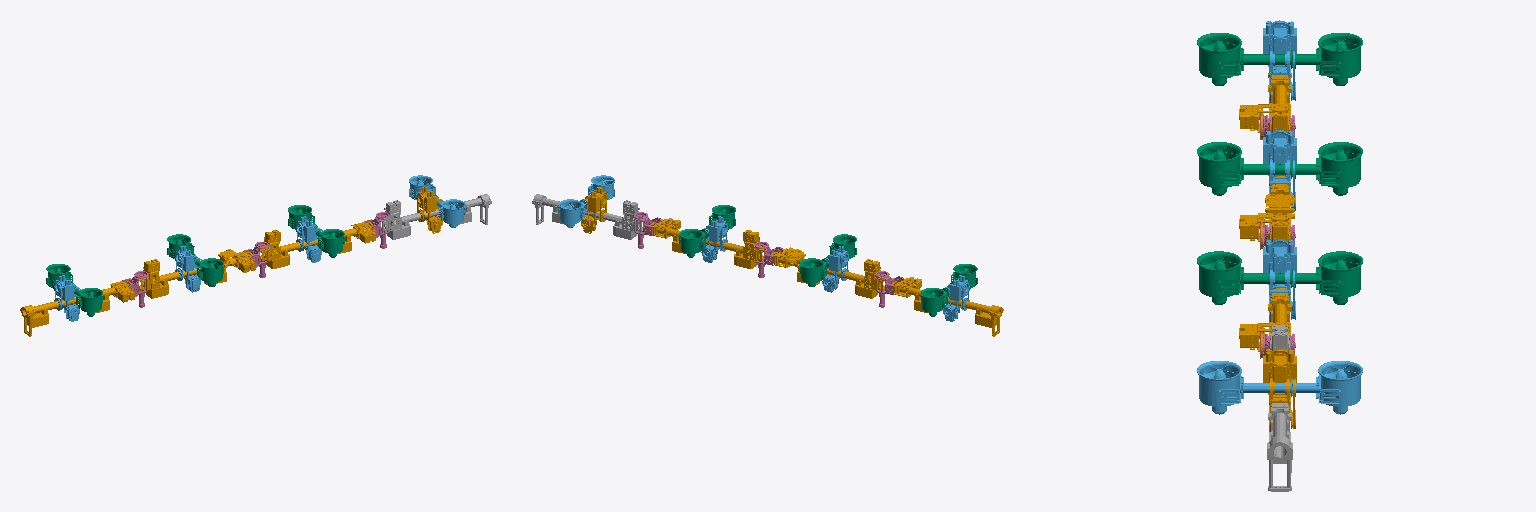
robot.urdf — dragon:
<?xml version="1.0" ?>
<robot name="dragon">
  <baselink name="fc"/>
  <thrust_link name="thrust"/>
  <m_f_rate value="0"/>
  <link name="link1">
    <inertial>
      <origin rpy="0 0 0" xyz="0.22709 -0.00667 -0.02721"/>
      <mass value="0.7968"/>
      <inertia ixx="0.00095" ixy="-0.00098" ixz="0.0003" iyy="0.0151" iyz="0.0001" izz="0.0148"/>
    </inertial>
    <visual>
      <origin rpy="0 0 0" xyz="0.212 0 0"/>
      <geometry>
        <mesh filename="ducted_fan_head_link.stl"/>
      </geometry>
    </visual>
    <collision name="link1">
      <origin rpy="0 0 0" xyz="0.212 0 0"/>
      <geometry>
        <mesh filename="ducted_fan_head_link.stl"/>
      </geometry>
    </collision>
  </link>
  <gazebo reference="link1">
    <dampingFactor>0.00</dampingFactor>
  </gazebo>
  <joint name="gimbal1_roll" type="revolute">
    <limit effort="3" lower="-3.14" upper="3.14" velocity="12.5"/>
    <parent link="link1"/>
    <child link="gimbal1_roll_module"/>
    <origin rpy="0 0 0" xyz="0.212 0 0"/>
    <axis xyz="1 0 0"/>
    <dynamics damping="0.1" friction="0.0"/>
  </joint>
  <link name="gimbal1_roll_module">
    <inertial>
      <origin rpy="0 0 0" xyz="-0.0276 0.00042 0.01548"/>
      <mass value="0.4604"/>
      <inertia ixx="0.0004" ixy="0" ixz="-0.0003" iyy="0.0004" iyz="0" izz="0.0003"/>
    </inertial>
    <visual>
      <origin rpy="0 0 0" xyz="-0.01 0 0"/>
      <geometry>
        <mesh filename="ducted_fan_gimbal_roll.stl"/>
      </geometry>
    </visual>
    <collision name="gimbal1_roll_module">
      <origin rpy="0 0 0" xyz="-0.01 0 0"/>
      <geometry>
        <mesh filename="ducted_fan_gimbal_roll.stl"/>
      </geometry>
    </collision>
  </link>
  <joint name="gimbal1_pitch" type="revolute">
    <limit effort="3" lower="-3.14" upper="3.14" velocity="12.5"/>
    <parent link="gimbal1_roll_module"/>
    <child link="gimbal1_pitch_module"/>
    <origin rpy="0 0 0" xyz="0 0 0.037"/>
    <axis xyz="0 1 0"/>
    <dynamics damping="0.1" friction="0.0"/>
  </joint>
  <link name="gimbal1_pitch_module">
    <inertial>
      <origin rpy="0 0 0" xyz="0 0.00033  -0.00871"/>
      <mass value="0.5301"/>
      <inertia ixx="0.0061" ixy="0.0" ixz="0.0" iyy="0.0001" iyz="0.0" izz="0.0061"/>
    </inertial>
    <visual>
      <origin rpy="0 0 0" xyz="0 0 0"/>
      <geometry>
        <mesh filename="ducted_fan_gimbal_pitch.stl"/>
      </geometry>
    </visual>
    <collision name="gimbal1_pitch_module">
      <origin rpy="0 0 0" xyz="0 0 0"/>
      <geometry>
        <mesh filename="ducted_fan_gimbal_pitch.stl"/>
      </geometry>
    </collision>
  </link>
  <joint name="rotor1" type="continuous">
    <limit effort="100.0" lower="2" upper="30" velocity="0.5"/>
    <parent link="gimbal1_pitch_module"/>
    <child link="thrust1"/>
    <origin rpy="0 0 0" xyz="0 0 0"/>
    <axis xyz="0 0 1"/>
  </joint>
  <link name="thrust1">
    <inertial>
      <origin rpy="0 0 0" xyz="0 0 0"/>
      <mass value="0.0001"/>
      <inertia ixx="0.00001" ixy="0.0" ixz="0.0" iyy="0.00001" iyz="0.0" izz="0.00002"/>
    </inertial>
  </link>
  <joint name="edf1_left_mount" type="fixed">
    <child link="edf1_left"/>
    <parent link="gimbal1_pitch_module"/>
    <origin rpy="0 0 0" xyz="0 0.1115 0 "/>
    <axis xyz="0 0 1"/>
  </joint>
  <link name="edf1_left">
    <inertial>
      <origin rpy="0 0 0" xyz="0 0 0"/>
      <mass value="0.00001"/>
      <inertia ixx="0.000001" ixy="0.0" ixz="0.0" iyy="0.000001" iyz="0.0" izz="0.000002"/>
    </inertial>
  </link>
  <joint name="edf1_right_mount" type="fixed">
    <child link="edf1_right"/>
    <parent link="gimbal1_pitch_module"/>
    <origin rpy="0 0 0" xyz="0 -0.1115 0 "/>
    <axis xyz="0 0 1"/>
  </joint>
  <link name="edf1_right">
    <inertial>
      <origin rpy="0 0 0" xyz="0 0 0"/>
      <mass value="0.00001"/>
      <inertia ixx="0.000001" ixy="0.0" ixz="0.0" iyy="0.000001" iyz="0.0" izz="0.000002"/>
    </inertial>
  </link>
  <gazebo reference="thrust1">
    <dampingFactor>0.00</dampingFactor>
  </gazebo>
  <joint name="joint1_pitch" type="revolute">
    <limit effort="10.0" lower="-1.5707963267948966" upper="1.5707963267948966" velocity="0.1"/>
    <parent link="link1"/>
    <child link="inter_joint1"/>
    <origin rpy="0 0 0" xyz="0.424 0 0"/>
    <axis xyz="0 1 0"/>
    <dynamics damping="0.9" friction="0.05"/>
  </joint>
  <link name="inter_joint1">
    <inertial>
      <origin rpy="0 0 0" xyz="0.029179999999999998 -0.0042699999999999995 -0.0015500000000000002"/>
      <mass value="0.1329"/>
      <inertia ixx="0.0001" ixy="0" ixz="0.0" iyy="0.0001" iyz="0.0" izz="0.0001"/>
    </inertial>
    <visual>
      <origin rpy="0 0 0" xyz="0.02575 0 0"/>
      <geometry>
        <mesh filename="inter_joint_junction.stl"/>
      </geometry>
    </visual>
    <collision name="inter_joint1">
      <origin rpy="0 0 0" xyz="0.02575 0 0"/>
      <geometry>
        <mesh filename="inter_joint_junction.stl"/>
      </geometry>
    </collision>
  </link>
  <joint name="joint1_yaw" type="revolute">
    <limit effort="10.0" lower="-1.5707963267948966" upper="1.5707963267948966" velocity="0.1"/>
    <parent link="inter_joint1"/>
    <child link="link2"/>
    <origin rpy="0 0 0" xyz="0.0515 0 0"/>
    <axis xyz="0 0 1"/>
    <dynamics damping="0.9" friction="0.05"/>
  </joint>
  <gazebo reference="inter_joint1">
    <mu1>0.2</mu1>
    <mu2>0.2</mu2>
  </gazebo>
  <link name="root">
    <inertial>
      <origin rpy="0 0 0" xyz="0 0 0"/>
      <mass value="0.00001"/>
      <inertia ixx="0.000001" ixy="0.0" ixz="0.0" iyy="0.000001" iyz="0.0" izz="0.000002"/>
    </inertial>
  </link>
  <joint name="root_joint" type="fixed">
    <parent link="root"/>
    <child link="link1"/>
    <origin rpy="0 0 0" xyz="0 0 0"/>
    <axis xyz="0 0 1"/>
  </joint>
  <gazebo reference="link1">
    <mu1>0.4</mu1>
    <mu2>0.4</mu2>
  </gazebo>
  <link name="link2">
    <inertial>
      <origin rpy="0 0 0" xyz="0.22154 -0.00474 -0.01568"/>
      <mass value="1.1348"/>
      <inertia ixx="0.0018" ixy="-0.0009" ixz="-0.0006" iyy="0.0228" iyz="0.0001" izz="0.0219"/>
    </inertial>
    <visual>
      <origin rpy="0 0 0" xyz="0.212 0 0"/>
      <geometry>
        <mesh filename="ducted_fan_baselink.stl"/>
      </geometry>
    </visual>
    <collision name="link2">
      <origin rpy="0 0 0" xyz="0.212 0 0"/>
      <geometry>
        <mesh filename="ducted_fan_baselink.stl"/>
      </geometry>
    </collision>
  </link>
  <gazebo reference="link2">
    <dampingFactor>0.00</dampingFactor>
  </gazebo>
  <joint name="gimbal2_roll" type="revolute">
    <limit effort="3" lower="-3.14" upper="3.14" velocity="12.5"/>
    <parent link="link2"/>
    <child link="gimbal2_roll_module"/>
    <origin rpy="0 0 0" xyz="0.212 0 0"/>
    <axis xyz="1 0 0"/>
    <dynamics damping="0.1" friction="0.0"/>
  </joint>
  <link name="gimbal2_roll_module">
    <inertial>
      <origin rpy="0 0 0" xyz="-0.0276 0.00042 0.01548"/>
      <mass value="0.4604"/>
      <inertia ixx="0.0004" ixy="0" ixz="-0.0003" iyy="0.0004" iyz="0" izz="0.0003"/>
    </inertial>
    <visual>
      <origin rpy="0 0 0" xyz="-0.01 0 0"/>
      <geometry>
        <mesh filename="ducted_fan_gimbal_roll.stl"/>
      </geometry>
    </visual>
    <collision name="gimbal2_roll_module">
      <origin rpy="0 0 0" xyz="-0.01 0 0"/>
      <geometry>
        <mesh filename="ducted_fan_gimbal_roll.stl"/>
      </geometry>
    </collision>
  </link>
  <joint name="gimbal2_pitch" type="revolute">
    <limit effort="3" lower="-3.14" upper="3.14" velocity="12.5"/>
    <parent link="gimbal2_roll_module"/>
    <child link="gimbal2_pitch_module"/>
    <origin rpy="0 0 0" xyz="0 0 0.037"/>
    <axis xyz="0 1 0"/>
    <dynamics damping="0.1" friction="0.0"/>
  </joint>
  <link name="gimbal2_pitch_module">
    <inertial>
      <origin rpy="0 0 0" xyz="0 0.00033  -0.00871"/>
      <mass value="0.5301"/>
      <inertia ixx="0.0061" ixy="0.0" ixz="0.0" iyy="0.0001" iyz="0.0" izz="0.0061"/>
    </inertial>
    <visual>
      <origin rpy="0 0 0" xyz="0 0 0"/>
      <geometry>
        <mesh filename="ducted_fan_gimbal_pitch.stl"/>
      </geometry>
    </visual>
    <collision name="gimbal2_pitch_module">
      <origin rpy="0 0 0" xyz="0 0 0"/>
      <geometry>
        <mesh filename="ducted_fan_gimbal_pitch.stl"/>
      </geometry>
    </collision>
  </link>
  <joint name="rotor2" type="continuous">
    <limit effort="100.0" lower="2" upper="30" velocity="0.5"/>
    <parent link="gimbal2_pitch_module"/>
    <child link="thrust2"/>
    <origin rpy="0 0 0" xyz="0 0 0"/>
    <axis xyz="0 0 1"/>
  </joint>
  <link name="thrust2">
    <inertial>
      <origin rpy="0 0 0" xyz="0 0 0"/>
      <mass value="0.0001"/>
      <inertia ixx="0.00001" ixy="0.0" ixz="0.0" iyy="0.00001" iyz="0.0" izz="0.00002"/>
    </inertial>
  </link>
  <joint name="edf2_left_mount" type="fixed">
    <child link="edf2_left"/>
    <parent link="gimbal2_pitch_module"/>
    <origin rpy="0 0 0" xyz="0 0.1115 0 "/>
    <axis xyz="0 0 1"/>
  </joint>
  <link name="edf2_left">
    <inertial>
      <origin rpy="0 0 0" xyz="0 0 0"/>
      <mass value="0.00001"/>
      <inertia ixx="0.000001" ixy="0.0" ixz="0.0" iyy="0.000001" iyz="0.0" izz="0.000002"/>
    </inertial>
  </link>
  <joint name="edf2_right_mount" type="fixed">
    <child link="edf2_right"/>
    <parent link="gimbal2_pitch_module"/>
    <origin rpy="0 0 0" xyz="0 -0.1115 0 "/>
    <axis xyz="0 0 1"/>
  </joint>
  <link name="edf2_right">
    <inertial>
      <origin rpy="0 0 0" xyz="0 0 0"/>
      <mass value="0.00001"/>
      <inertia ixx="0.000001" ixy="0.0" ixz="0.0" iyy="0.000001" iyz="0.0" izz="0.000002"/>
    </inertial>
  </link>
  <gazebo reference="thrust2">
    <dampingFactor>0.00</dampingFactor>
  </gazebo>
  <joint name="joint2_pitch" type="revolute">
    <limit effort="10.0" lower="-1.5707963267948966" upper="1.5707963267948966" velocity="0.1"/>
    <parent link="link2"/>
    <child link="inter_joint2"/>
    <origin rpy="0 0 0" xyz="0.424 0 0"/>
    <axis xyz="0 1 0"/>
    <dynamics damping="0.9" friction="0.05"/>
  </joint>
  <link name="inter_joint2">
    <inertial>
      <origin rpy="0 0 0" xyz="0.029179999999999998 -0.0042699999999999995 -0.0015500000000000002"/>
      <mass value="0.1329"/>
      <inertia ixx="0.0001" ixy="0" ixz="0.0" iyy="0.0001" iyz="0.0" izz="0.0001"/>
    </inertial>
    <visual>
      <origin rpy="0 0 0" xyz="0.02575 0 0"/>
      <geometry>
        <mesh filename="inter_joint_junction.stl"/>
      </geometry>
    </visual>
    <collision name="inter_joint2">
      <origin rpy="0 0 0" xyz="0.02575 0 0"/>
      <geometry>
        <mesh filename="inter_joint_junction.stl"/>
      </geometry>
    </collision>
  </link>
  <joint name="joint2_yaw" type="revolute">
    <limit effort="10.0" lower="-1.5707963267948966" upper="1.5707963267948966" velocity="0.1"/>
    <parent link="inter_joint2"/>
    <child link="link3"/>
    <origin rpy="0 0 0" xyz="0.0515 0 0"/>
    <axis xyz="0 0 1"/>
    <dynamics damping="0.9" friction="0.05"/>
  </joint>
  <gazebo reference="inter_joint2">
    <mu1>0.2</mu1>
    <mu2>0.2</mu2>
  </gazebo>
  <link name="fc">
    <inertial>
      <origin rpy="0 0 0" xyz="0 0 0"/>
      <mass value="0.00001"/>
      <inertia ixx="0.000001" ixy="0.0" ixz="0.0" iyy="0.000001" iyz="0.0" izz="0.000002"/>
    </inertial>
  </link>
  <joint name="fc_joint" type="fixed">
    <child link="fc"/>
    <parent link="link2"/>
    <origin rpy="0 0 0" xyz="0.316 -0.004 0.043"/>
    <axis xyz="0 0 1"/>
  </joint>
  <gazebo reference="link2">
    <mu1>0.4</mu1>
    <mu2>0.4</mu2>
  </gazebo>
  <link name="link3">
    <inertial>
      <origin rpy="0 0 0" xyz="0.19922 -0.0058 -0.01695"/>
      <mass value="0.9289"/>
      <inertia ixx="0.0015" ixy="-0.0008" ixz="-0.0001" iyy="0.0198" iyz="0.0001" izz="0.0189"/>
    </inertial>
    <visual>
      <origin rpy="0 0 0" xyz="0.212 0 0"/>
      <geometry>
        <mesh filename="ducted_fan_general_link.stl"/>
      </geometry>
    </visual>
    <collision name="link3">
      <origin rpy="0 0 0" xyz="0.212 0 0"/>
      <geometry>
        <mesh filename="ducted_fan_general_link.stl"/>
      </geometry>
    </collision>
  </link>
  <gazebo reference="link3">
    <dampingFactor>0.00</dampingFactor>
  </gazebo>
  <joint name="gimbal3_roll" type="revolute">
    <limit effort="3" lower="-3.14" upper="3.14" velocity="12.5"/>
    <parent link="link3"/>
    <child link="gimbal3_roll_module"/>
    <origin rpy="0 0 0" xyz="0.212 0 0"/>
    <axis xyz="1 0 0"/>
    <dynamics damping="0.1" friction="0.0"/>
  </joint>
  <link name="gimbal3_roll_module">
    <inertial>
      <origin rpy="0 0 0" xyz="-0.0276 0.00042 0.01548"/>
      <mass value="0.4604"/>
      <inertia ixx="0.0004" ixy="0" ixz="-0.0003" iyy="0.0004" iyz="0" izz="0.0003"/>
    </inertial>
    <visual>
      <origin rpy="0 0 0" xyz="-0.01 0 0"/>
      <geometry>
        <mesh filename="ducted_fan_gimbal_roll.stl"/>
      </geometry>
    </visual>
    <collision name="gimbal3_roll_module">
      <origin rpy="0 0 0" xyz="-0.01 0 0"/>
      <geometry>
        <mesh filename="ducted_fan_gimbal_roll.stl"/>
      </geometry>
    </collision>
  </link>
  <joint name="gimbal3_pitch" type="revolute">
    <limit effort="3" lower="-3.14" upper="3.14" velocity="12.5"/>
    <parent link="gimbal3_roll_module"/>
    <child link="gimbal3_pitch_module"/>
    <origin rpy="0 0 0" xyz="0 0 0.037"/>
    <axis xyz="0 1 0"/>
    <dynamics damping="0.1" friction="0.0"/>
  </joint>
  <link name="gimbal3_pitch_module">
    <inertial>
      <origin rpy="0 0 0" xyz="0 0.00033  -0.00871"/>
      <mass value="0.5301"/>
      <inertia ixx="0.0061" ixy="0.0" ixz="0.0" iyy="0.0001" iyz="0.0" izz="0.0061"/>
    </inertial>
    <visual>
      <origin rpy="0 0 0" xyz="0 0 0"/>
      <geometry>
        <mesh filename="ducted_fan_gimbal_pitch.stl"/>
      </geometry>
    </visual>
    <collision name="gimbal3_pitch_module">
      <origin rpy="0 0 0" xyz="0 0 0"/>
      <geometry>
        <mesh filename="ducted_fan_gimbal_pitch.stl"/>
      </geometry>
    </collision>
  </link>
  <joint name="rotor3" type="continuous">
    <limit effort="100.0" lower="2" upper="30" velocity="0.5"/>
    <parent link="gimbal3_pitch_module"/>
    <child link="thrust3"/>
    <origin rpy="0 0 0" xyz="0 0 0"/>
    <axis xyz="0 0 1"/>
  </joint>
  <link name="thrust3">
    <inertial>
      <origin rpy="0 0 0" xyz="0 0 0"/>
      <mass value="0.0001"/>
      <inertia ixx="0.00001" ixy="0.0" ixz="0.0" iyy="0.00001" iyz="0.0" izz="0.00002"/>
    </inertial>
  </link>
  <joint name="edf3_left_mount" type="fixed">
    <child link="edf3_left"/>
    <parent link="gimbal3_pitch_module"/>
    <origin rpy="0 0 0" xyz="0 0.1115 0 "/>
    <axis xyz="0 0 1"/>
  </joint>
  <link name="edf3_left">
    <inertial>
      <origin rpy="0 0 0" xyz="0 0 0"/>
      <mass value="0.00001"/>
      <inertia ixx="0.000001" ixy="0.0" ixz="0.0" iyy="0.000001" iyz="0.0" izz="0.000002"/>
    </inertial>
  </link>
  <joint name="edf3_right_mount" type="fixed">
    <child link="edf3_right"/>
    <parent link="gimbal3_pitch_module"/>
    <origin rpy="0 0 0" xyz="0 -0.1115 0 "/>
    <axis xyz="0 0 1"/>
  </joint>
  <link name="edf3_right">
    <inertial>
      <origin rpy="0 0 0" xyz="0 0 0"/>
      <mass value="0.00001"/>
      <inertia ixx="0.000001" ixy="0.0" ixz="0.0" iyy="0.000001" iyz="0.0" izz="0.000002"/>
    </inertial>
  </link>
  <gazebo reference="thrust3">
    <dampingFactor>0.00</dampingFactor>
  </gazebo>
  <joint name="joint3_pitch" type="revolute">
    <limit effort="10.0" lower="-1.5707963267948966" upper="1.5707963267948966" velocity="0.1"/>
    <parent link="link3"/>
    <child link="inter_joint3"/>
    <origin rpy="0 0 0" xyz="0.424 0 0"/>
    <axis xyz="0 1 0"/>
    <dynamics damping="0.9" friction="0.05"/>
  </joint>
  <link name="inter_joint3">
    <inertial>
      <origin rpy="0 0 0" xyz="0.029179999999999998 -0.0042699999999999995 -0.0015500000000000002"/>
      <mass value="0.1329"/>
      <inertia ixx="0.0001" ixy="0" ixz="0.0" iyy="0.0001" iyz="0.0" izz="0.0001"/>
    </inertial>
    <visual>
      <origin rpy="0 0 0" xyz="0.02575 0 0"/>
      <geometry>
        <mesh filename="inter_joint_junction.stl"/>
      </geometry>
    </visual>
    <collision name="inter_joint3">
      <origin rpy="0 0 0" xyz="0.02575 0 0"/>
      <geometry>
        <mesh filename="inter_joint_junction.stl"/>
      </geometry>
    </collision>
  </link>
  <joint name="joint3_yaw" type="revolute">
    <limit effort="10.0" lower="-1.5707963267948966" upper="1.5707963267948966" velocity="0.1"/>
    <parent link="inter_joint3"/>
    <child link="link4"/>
    <origin rpy="0 0 0" xyz="0.0515 0 0"/>
    <axis xyz="0 0 1"/>
    <dynamics damping="0.9" friction="0.05"/>
  </joint>
  <gazebo reference="inter_joint3">
    <mu1>0.2</mu1>
    <mu2>0.2</mu2>
  </gazebo>
  <gazebo reference="link3">
    <mu1>0.4</mu1>
    <mu2>0.4</mu2>
  </gazebo>
  <link name="link4">
    <inertial>
      <origin rpy="0 0 0" xyz="0.16774 -0.00011 -0.02072"/>
      <mass value="0.7943"/>
      <inertia ixx="0.0012" ixy="0.0" ixz="0.0003" iyy="0.0145" iyz="0.0000" izz="0.0134"/>
    </inertial>
    <visual>
      <origin rpy="0 0 0" xyz="0.212 0 0"/>
      <geometry>
        <mesh filename="ducted_fan_end_link.stl"/>
      </geometry>
    </visual>
    <collision name="link4">
      <origin rpy="0 0 0" xyz="0.212 0 0"/>
      <geometry>
        <mesh filename="ducted_fan_end_link.stl"/>
      </geometry>
    </collision>
  </link>
  <gazebo reference="link4">
    <dampingFactor>0.00</dampingFactor>
  </gazebo>
  <joint name="gimbal4_roll" type="revolute">
    <limit effort="3" lower="-3.14" upper="3.14" velocity="12.5"/>
    <parent link="link4"/>
    <child link="gimbal4_roll_module"/>
    <origin rpy="0 0 0" xyz="0.212 0 0"/>
    <axis xyz="1 0 0"/>
    <dynamics damping="0.1" friction="0.0"/>
  </joint>
  <link name="gimbal4_roll_module">
    <inertial>
      <origin rpy="0 0 0" xyz="-0.0276 0.00042 0.01548"/>
      <mass value="0.4604"/>
      <inertia ixx="0.0004" ixy="0" ixz="-0.0003" iyy="0.0004" iyz="0" izz="0.0003"/>
    </inertial>
    <visual>
      <origin rpy="0 0 0" xyz="-0.01 0 0"/>
      <geometry>
        <mesh filename="ducted_fan_gimbal_roll.stl"/>
      </geometry>
    </visual>
    <collision name="gimbal4_roll_module">
      <origin rpy="0 0 0" xyz="-0.01 0 0"/>
      <geometry>
        <mesh filename="ducted_fan_gimbal_roll.stl"/>
      </geometry>
    </collision>
  </link>
  <joint name="gimbal4_pitch" type="revolute">
    <limit effort="3" lower="-3.14" upper="3.14" velocity="12.5"/>
    <parent link="gimbal4_roll_module"/>
    <child link="gimbal4_pitch_module"/>
    <origin rpy="0 0 0" xyz="0 0 0.037"/>
    <axis xyz="0 1 0"/>
    <dynamics damping="0.1" friction="0.0"/>
  </joint>
  <link name="gimbal4_pitch_module">
    <inertial>
      <origin rpy="0 0 0" xyz="0 0.00033  -0.00871"/>
      <mass value="0.5301"/>
      <inertia ixx="0.0061" ixy="0.0" ixz="0.0" iyy="0.0001" iyz="0.0" izz="0.0061"/>
    </inertial>
    <visual>
      <origin rpy="0 0 0" xyz="0 0 0"/>
      <geometry>
        <mesh filename="ducted_fan_gimbal_pitch.stl"/>
      </geometry>
    </visual>
    <collision name="gimbal4_pitch_module">
      <origin rpy="0 0 0" xyz="0 0 0"/>
      <geometry>
        <mesh filename="ducted_fan_gimbal_pitch.stl"/>
      </geometry>
    </collision>
  </link>
  <joint name="rotor4" type="continuous">
    <limit effort="100.0" lower="2" upper="30" velocity="0.5"/>
    <parent link="gimbal4_pitch_module"/>
    <child link="thrust4"/>
    <origin rpy="0 0 0" xyz="0 0 0"/>
    <axis xyz="0 0 1"/>
  </joint>
  <link name="thrust4">
    <inertial>
      <origin rpy="0 0 0" xyz="0 0 0"/>
      <mass value="0.0001"/>
      <inertia ixx="0.00001" ixy="0.0" ixz="0.0" iyy="0.00001" iyz="0.0" izz="0.00002"/>
    </inertial>
  </link>
  <joint name="edf4_left_mount" type="fixed">
    <child link="edf4_left"/>
    <parent link="gimbal4_pitch_module"/>
    <origin rpy="0 0 0" xyz="0 0.1115 0 "/>
    <axis xyz="0 0 1"/>
  </joint>
  <link name="edf4_left">
    <inertial>
      <origin rpy="0 0 0" xyz="0 0 0"/>
      <mass value="0.00001"/>
      <inertia ixx="0.000001" ixy="0.0" ixz="0.0" iyy="0.000001" iyz="0.0" izz="0.000002"/>
    </inertial>
  </link>
  <joint name="edf4_right_mount" type="fixed">
    <child link="edf4_right"/>
    <parent link="gimbal4_pitch_module"/>
    <origin rpy="0 0 0" xyz="0 -0.1115 0 "/>
    <axis xyz="0 0 1"/>
  </joint>
  <link name="edf4_right">
    <inertial>
      <origin rpy="0 0 0" xyz="0 0 0"/>
      <mass value="0.00001"/>
      <inertia ixx="0.000001" ixy="0.0" ixz="0.0" iyy="0.000001" iyz="0.0" izz="0.000002"/>
    </inertial>
  </link>
  <gazebo reference="thrust4">
    <dampingFactor>0.00</dampingFactor>
  </gazebo>
  <gazebo reference="link4">
    <mu1>0.4</mu1>
    <mu2>0.4</mu2>
  </gazebo>
  <mujoco>
    <compiler balanceinertia="true"/>
    <option/>
  </mujoco>
</robot>

--- What the picture shows (computed from the rendered views, not written in the file) ---
Views: 3 orthographic renders of the robot side by side, from view 1: azimuth 30°, elevation 25°; view 2: azimuth 150°, elevation 25°; view 3: azimuth 270°, elevation 25°.
Robot: dragon — 29 links, 28 joints (14 revolute, 4 continuous, 10 fixed); root link root; default pose: all joints at 0.
Visible links, largest first — view 1: link2, link3, link4, link1, gimbal2_pitch_module, gimbal4_pitch_module, gimbal3_pitch_module, gimbal1_pitch_module, gimbal4_roll_module, gimbal1_roll_module, gimbal3_roll_module, gimbal2_roll_module; view 2: link3, link2, link4, link1, gimbal2_pitch_module, gimbal4_pitch_module, gimbal3_pitch_module, gimbal1_pitch_module, gimbal1_roll_module, gimbal4_roll_module, gimbal3_roll_module, gimbal2_roll_module; view 3: gimbal3_pitch_module, gimbal2_pitch_module, gimbal1_pitch_module, gimbal4_pitch_module, link4, link2, link3, gimbal4_roll_module, gimbal1_roll_module, gimbal3_roll_module, gimbal2_roll_module, link1.
Link boxes in pixels (x1=…): link2: x1=135, y1=249, x2=255, y2=298; link3: x1=256, y1=222, x2=375, y2=268; link4: x1=377, y1=194, x2=491, y2=239; link1: x1=20, y1=281, x2=134, y2=336; gimbal2_pitch_module: x1=167, y1=234, x2=223, y2=286; gimbal4_pitch_module: x1=409, y1=175, x2=465, y2=227; gimbal3_pitch_module: x1=288, y1=205, x2=344, y2=257; gimbal1_pitch_module: x1=46, y1=264, x2=102, y2=316; gimbal4_roll_module: x1=417, y1=187, x2=443, y2=233; gimbal1_roll_module: x1=54, y1=275, x2=80, y2=321; gimbal3_roll_module: x1=296, y1=216, x2=322, y2=262; gimbal2_roll_module: x1=175, y1=246, x2=201, y2=292; link3: x1=648, y1=218, x2=767, y2=268; link2: x1=769, y1=247, x2=888, y2=298; link4: x1=532, y1=194, x2=646, y2=239; link1: x1=890, y1=277, x2=1003, y2=336; gimbal2_pitch_module: x1=800, y1=234, x2=856, y2=286; gimbal4_pitch_module: x1=558, y1=175, x2=614, y2=227; gimbal3_pitch_module: x1=679, y1=205, x2=735, y2=257; gimbal1_pitch_module: x1=921, y1=264, x2=977, y2=316; gimbal1_roll_module: x1=943, y1=275, x2=969, y2=321; gimbal4_roll_module: x1=581, y1=187, x2=606, y2=233; gimbal3_roll_module: x1=701, y1=216, x2=727, y2=262; gimbal2_roll_module: x1=822, y1=246, x2=848, y2=292; gimbal3_pitch_module: x1=1197, y1=251, x2=1362, y2=304; gimbal2_pitch_module: x1=1197, y1=142, x2=1362, y2=195; gimbal1_pitch_module: x1=1197, y1=33, x2=1362, y2=85; gimbal4_pitch_module: x1=1197, y1=361, x2=1362, y2=414; link4: x1=1267, y1=325, x2=1292, y2=491; link2: x1=1239, y1=107, x2=1295, y2=248; link3: x1=1239, y1=216, x2=1295, y2=357; gimbal4_roll_module: x1=1263, y1=349, x2=1296, y2=431; gimbal1_roll_module: x1=1263, y1=20, x2=1296, y2=103; gimbal3_roll_module: x1=1263, y1=239, x2=1296, y2=322; gimbal2_roll_module: x1=1263, y1=130, x2=1296, y2=210; link1: x1=1239, y1=69, x2=1295, y2=139.
Size in the robot's own frame: 1.83 by 0.3059 by 0.1763 metres.
15 mesh visuals loaded from 7 distinct referenced files (7 binary STL).